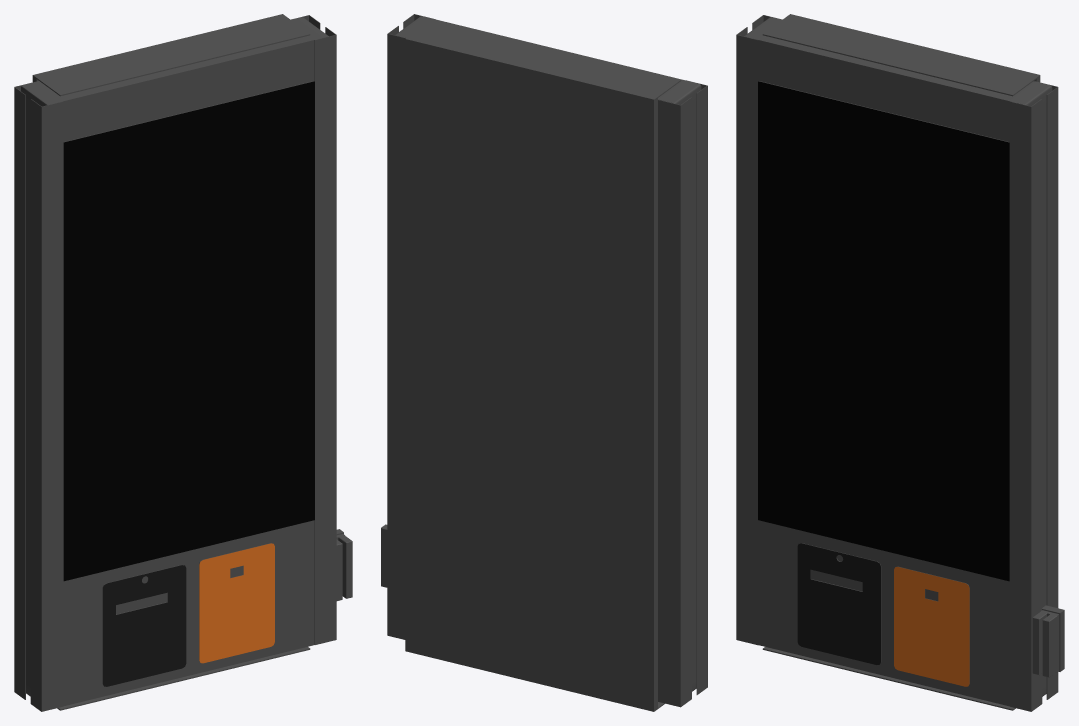
File: UTC-723.fbx
3 renders of one model, left to right at view 1: azimuth 30°, elevation 25°; view 2: azimuth 150°, elevation 25°; view 3: azimuth 330°, elevation 25°, orthographic.
Visible parts, largest first — view 1: A, B; view 2: B, A; view 3: A, B.
Boxes of the visible parts, x1,y1,x2,y2 form: A: (14, 15, 352, 711); B: (32, 14, 310, 710); B: (405, 19, 681, 711); A: (381, 14, 707, 707); A: (736, 15, 1064, 711); B: (762, 14, 1040, 710).
Size of the model in its own units: 56.61 by 106 by 9.88.
1 material, 1 textured.
